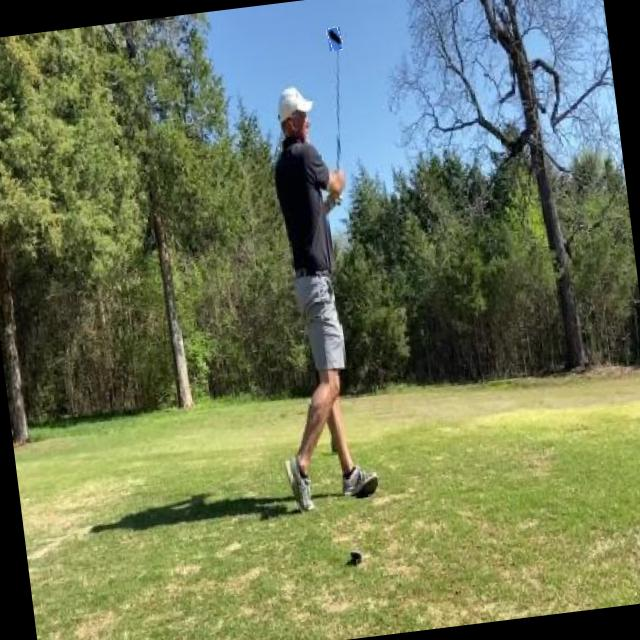club head: (327, 26, 342, 51)
